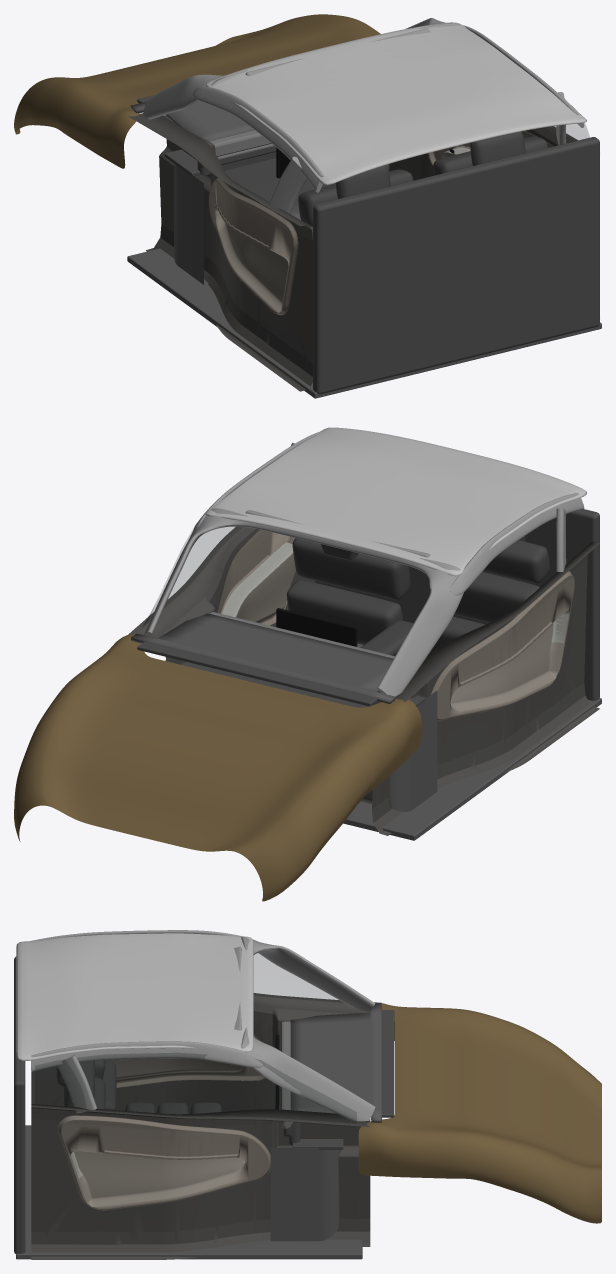
The model's file is cabin.a68fc94c.glb.
3 renders of one model, top to bottom at view 1: azimuth 30°, elevation 25°; view 2: azimuth 150°, elevation 25°; view 3: azimuth 270°, elevation 25°, orthographic. The views are drawn at different scales.
Parts seen in each view (by area): view 1: Cabin; view 2: Cabin, Glass; view 3: Cabin, Glass.
Part boxes in pixels (x1,y1,x2,y2): Cabin: (14, 14, 601, 398); Cabin: (14, 427, 601, 901); Glass: (142, 524, 242, 627); Cabin: (14, 930, 601, 1259); Glass: (35, 953, 356, 1126).
Bounding box in the file's own units: 1.75 × 1.2 × 3.07.
